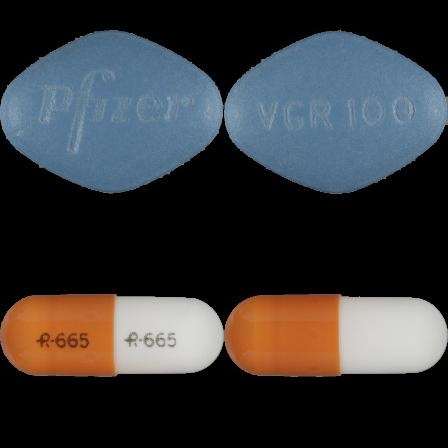67544-356: (0, 0, 224, 224)
